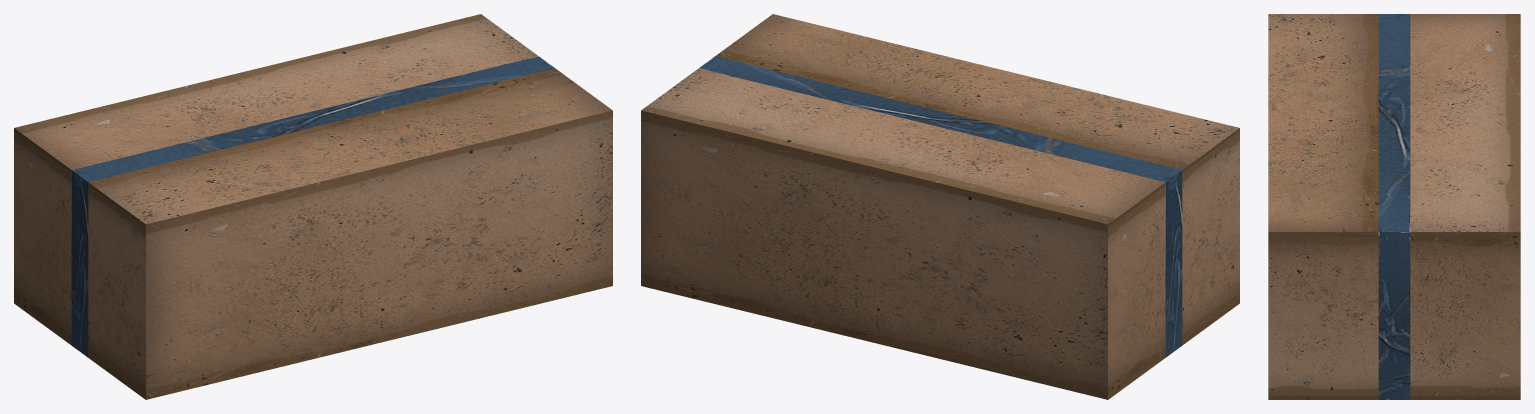
File: CardboardBoxClosed4_SM.fbx
3 renders of one model, left to right at view 1: azimuth 30°, elevation 25°; view 2: azimuth 150°, elevation 25°; view 3: azimuth 270°, elevation 25°, orthographic. The views are drawn at different scales.
Visible parts, largest first — view 1: Box011; view 2: Box011; view 3: Box011.
Part boxes in pixels (bbox=[...]): Box011: bbox=[14, 14, 612, 399]; Box011: bbox=[641, 14, 1239, 399]; Box011: bbox=[1268, 14, 1520, 399].
Size of the model in its own units: 107 by 38.4 by 52.29.
